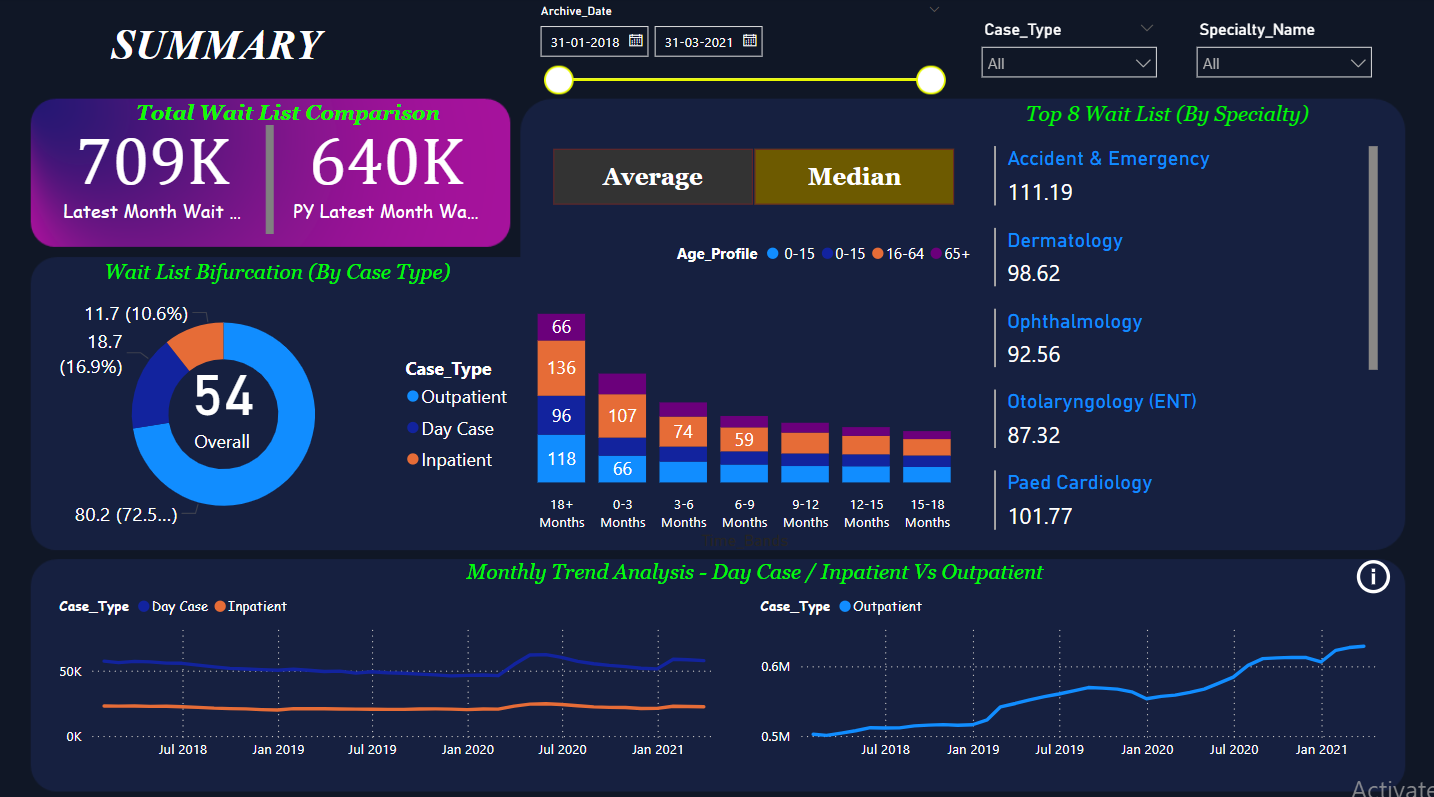

This screenshot's page, from the dashboard's own definition file:
{"tool":"powerbi","page":{"name":"Summary","canvas":[1280,720],"ordinal":0},"visuals":[{"type":"card","fields":{"Values":["All_Data.Latest Month Wait List"]},"box":[48,96,176,112],"z":0},{"type":"card","fields":{"Values":["All_Data.PY Latest Month Wait List"]},"box":[256,96,176,112],"z":1000},{"type":"slicer","fields":{"Values":["Calculation Method.Cal Method"]},"box":[466.8,128,407.5,64],"z":2000},{"type":"donutChart","fields":{"Category":["All_Data.Case_Type"],"Y":["All_Data.Avg/Med Wait List"]},"box":[32.6,255.8,433.7,231.4],"z":3000},{"type":"columnChart","fields":{"Category":["All_Data.Time_Bands"],"Series":["All_Data.Age_Profile"],"Y":["All_Data.Avg/Med Wait List"]},"box":[445,207.7,429.4,288.9],"z":4000},{"type":"multiRowCard","fields":{"Values":["All_Data.Specialty_Name","All_Data.Avg/Med Wait List"]},"box":[880.6,128,351.3,351.3],"z":5000},{"type":"lineChart","fields":{"Category":["All_Data.Archive_Date"],"Y":["Sum(All_Data.Total)"],"Series":["All_Data.Case_Type"]},"box":[47.7,523.3,608.1,165.1],"z":6000},{"type":"lineChart","fields":{"Category":["All_Data.Archive_Date"],"Y":["Sum(All_Data.Total)"],"Series":["All_Data.Case_Type"]},"box":[672.1,523.3,560.5,165.1],"z":7000},{"type":"slicer","fields":{"Values":["All_Data.Archive_Date"]},"box":[469.1,1.3,381,94.6],"z":8000},{"type":"slicer","fields":{"Values":["All_Data.Case_Type"]},"box":[864,15.1,176.7,64],"z":9000},{"type":"slicer","fields":{"Values":["All_Data.Specialty_Name"]},"box":[1055.8,15.1,176.7,64],"z":10000},{"type":"textbox","box":[32,16,320,64],"z":11000},{"type":"textbox","box":[224,80,32,176],"z":12000},{"type":"card","fields":{"Values":["All_Data.Avg/Med Wait List"]},"box":[155.5,311,84.2,97.2],"z":13000},{"type":"actionButton","box":[1203.5,496.5,41.9,39.5],"z":14000},{"type":"textbox","box":[100,88.4,312.8,39.5],"z":15000},{"type":"textbox","box":[372.1,496.5,601.2,53.5],"z":16000},{"type":"textbox","box":[81.4,229.1,331.4,53.5],"z":17000},{"type":"textbox","box":[874.4,89,331,53.1],"z":18000}]}

Visuals, with their boxes in screenshot pixels (x1, y1, x2, y2), scaled from the page's 1280x720 canvas onto the 1434x797 screenshot:
card - All_Data.Latest Month Wait List: (x1=54, y1=106, x2=251, y2=230)
card - All_Data.PY Latest Month Wait List: (x1=287, y1=106, x2=484, y2=230)
slicer - Calculation Method.Cal Method: (x1=523, y1=142, x2=979, y2=213)
donutChart - All_Data.Case_Type x All_Data.Avg/Med Wait List: (x1=37, y1=283, x2=522, y2=539)
columnChart - All_Data.Time_Bands x All_Data.Age_Profile: (x1=499, y1=230, x2=980, y2=550)
multiRowCard - All_Data.Specialty_Name x All_Data.Avg/Med Wait List: (x1=987, y1=142, x2=1380, y2=531)
lineChart - All_Data.Archive_Date x Sum(All_Data.Total): (x1=53, y1=579, x2=735, y2=762)
lineChart - All_Data.Archive_Date x Sum(All_Data.Total): (x1=753, y1=579, x2=1381, y2=762)
slicer - All_Data.Archive_Date: (x1=526, y1=1, x2=952, y2=106)
slicer - All_Data.Case_Type: (x1=968, y1=17, x2=1166, y2=88)
slicer - All_Data.Specialty_Name: (x1=1183, y1=17, x2=1381, y2=88)
textbox: (x1=36, y1=18, x2=394, y2=89)
textbox: (x1=251, y1=89, x2=287, y2=283)
card - All_Data.Avg/Med Wait List: (x1=174, y1=344, x2=269, y2=452)
actionButton: (x1=1348, y1=550, x2=1395, y2=593)
textbox: (x1=112, y1=98, x2=462, y2=142)
textbox: (x1=417, y1=550, x2=1090, y2=609)
textbox: (x1=91, y1=254, x2=462, y2=313)
textbox: (x1=980, y1=99, x2=1350, y2=157)
